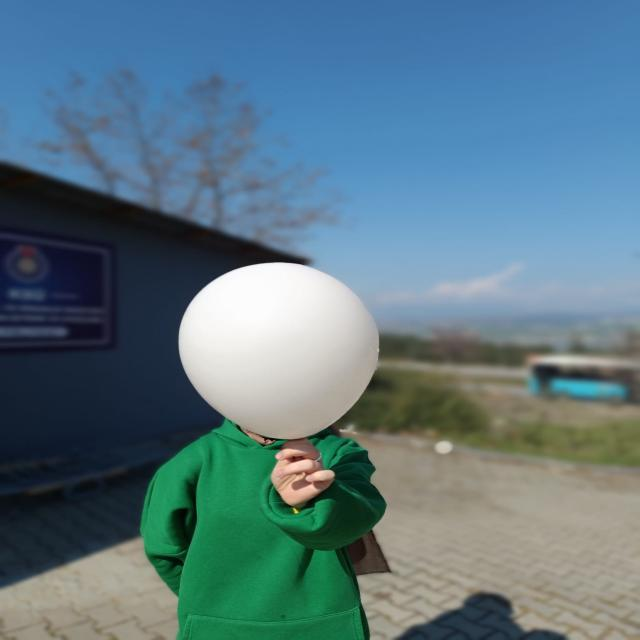balloon: (175, 261, 384, 438)
